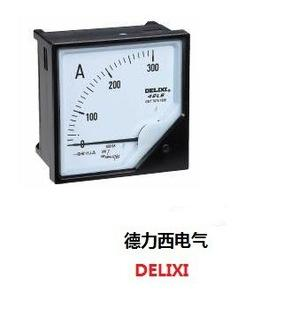pointer: (55, 40, 185, 177)
